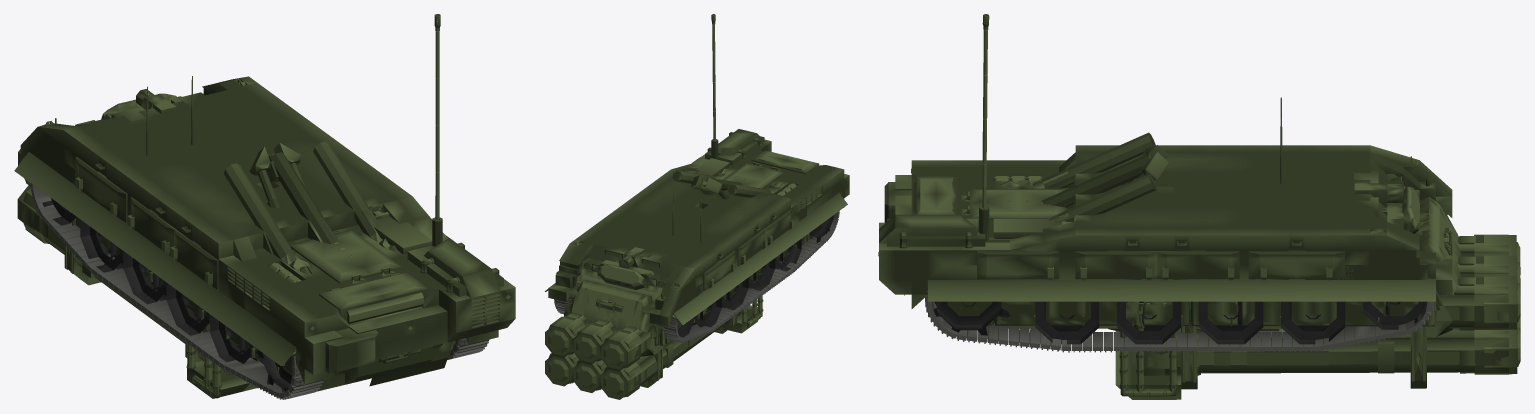
File: bukm3.glb
3 renders of one model, left to right at view 1: azimuth 30°, elevation 25°; view 2: azimuth 150°, elevation 25°; view 3: azimuth 270°, elevation 25°, orthographic. The views are drawn at different scales.
Parts seen in each view (by area): view 1: body|Material.001#camo, turret|Material.001#camo, body|default#track (×2), body|Material.001#rubber, cradle|Material.001#camo; view 2: body|Material.001#camo, cradle|Material.001#camo, turret|Material.001#camo, body|Material.001#rubber, body|default#track; view 3: body|Material.001#camo, cradle|Material.001#camo, turret|Material.001#camo, body|Material.001#rubber, body|default#track.
Boxes of the visible parts, left/top/right/bottom form: body|Material.001#camo: left=14, top=76, right=515, bottom=384; turret|Material.001#camo: left=61, top=14, right=455, bottom=392; body|default#track (×2): left=30, top=183, right=489, bottom=399; body|Material.001#rubber: left=42, top=198, right=464, bottom=391; cradle|Material.001#camo: left=17, top=120, right=257, bottom=398; body|Material.001#camo: left=545, top=129, right=849, bottom=326; cradle|Material.001#camo: left=545, top=279, right=763, bottom=399; turret|Material.001#camo: left=564, top=14, right=819, bottom=356; body|Material.001#rubber: left=577, top=215, right=833, bottom=337; body|default#track: left=656, top=210, right=839, bottom=342; body|Material.001#camo: left=878, top=145, right=1452, bottom=308; cradle|Material.001#camo: left=1115, top=234, right=1520, bottom=399; turret|Material.001#camo: left=904, top=14, right=1461, bottom=336; body|Material.001#rubber: left=928, top=301, right=1426, bottom=344; body|default#track: left=925, top=281, right=1433, bottom=352.
Bounding box in the file's own units: 3.75 × 6.47 × 9.8.
